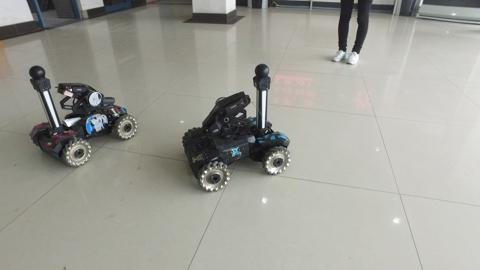chariot: (177, 64, 295, 195), (22, 65, 142, 169)
